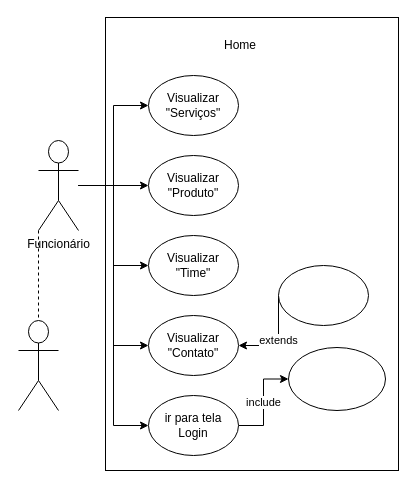
This 416x488 diagram has some shape labels left out. Each missing label, with the centre of its shape:
Enviar mensagem: point (323, 295)
Gerente: point (38, 365)
Redirecionar para tela de Login: point (337, 378)
